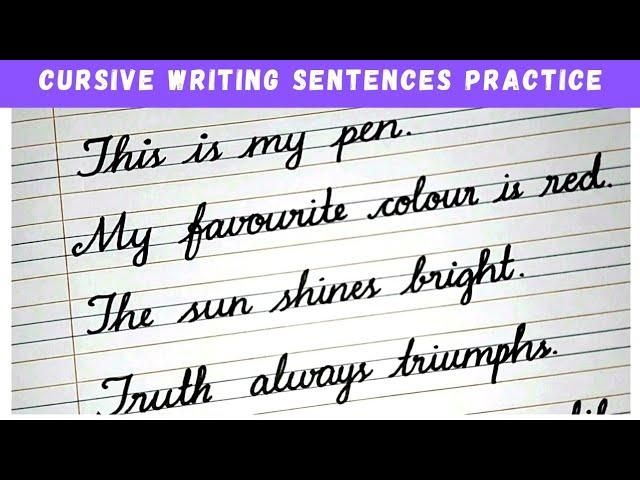text: (70, 149, 614, 270), (92, 321, 558, 416), (82, 242, 526, 338), (74, 118, 413, 180), (36, 65, 603, 96), (570, 395, 610, 417)
